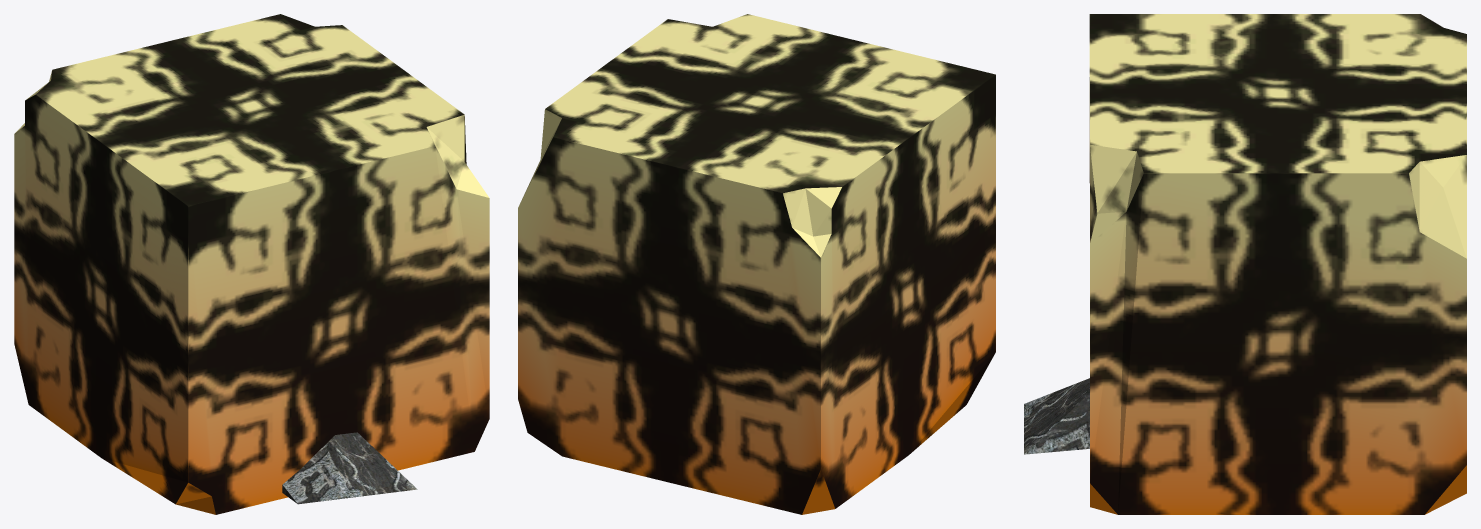
The model's file is EnemyStone.gltf.
3 renders of one model, left to right at view 1: azimuth 30°, elevation 25°; view 2: azimuth 150°, elevation 25°; view 3: azimuth 270°, elevation 25°, orthographic. The views are drawn at different scales.
Visible parts, largest first — view 1: EnemyStoneAdd, EnemyStone04; view 2: EnemyStoneAdd; view 3: EnemyStoneAdd, EnemyStone04.
Part boxes in pixels (x1,y1,x2,y2): EnemyStoneAdd: [14, 14, 489, 514]; EnemyStone04: [282, 432, 417, 504]; EnemyStoneAdd: [518, 14, 995, 514]; EnemyStoneAdd: [1089, 14, 1466, 514]; EnemyStone04: [1024, 378, 1089, 454].
Bounding box in the file's own units: 2.02 × 2.02 × 2.37.
Materials: 3 (3 with a texture image).
